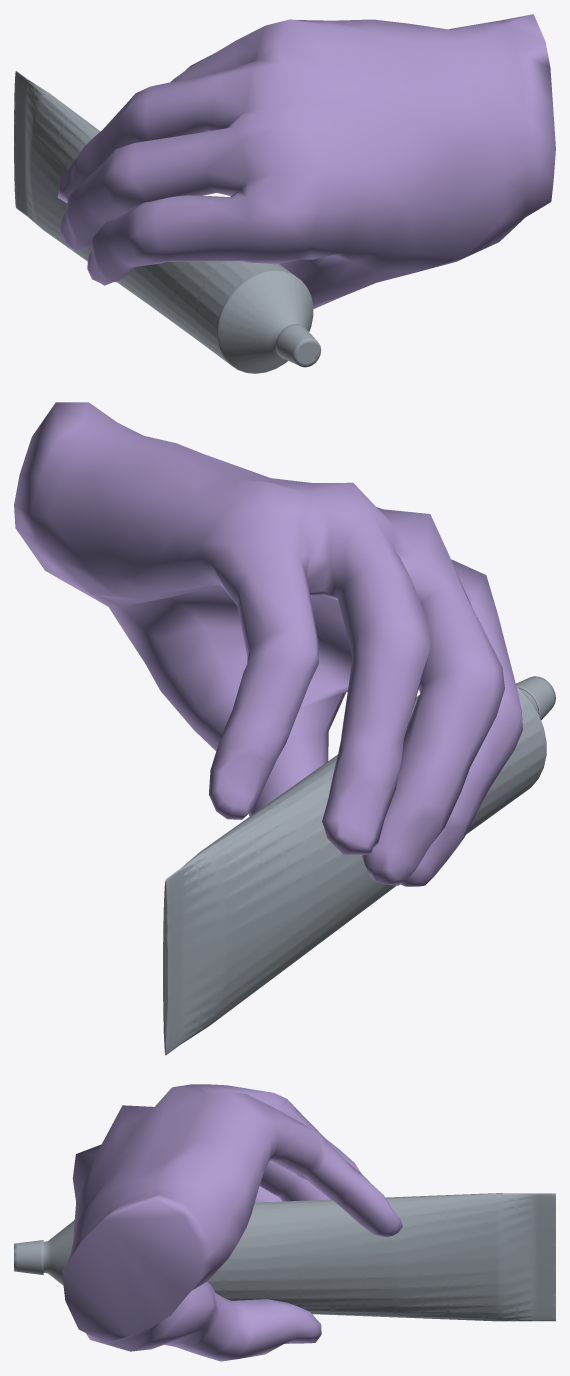
The model's file is grasp_2.glb.
The picture shows the model from 3 angles, top to bottom: view 1: azimuth 30°, elevation 25°; view 2: azimuth 150°, elevation 25°; view 3: azimuth 270°, elevation 25°; orthographic projection. The views are drawn at different scales.
Bounding box in the file's own units: 0.157 × 0.1148 × 0.202.
